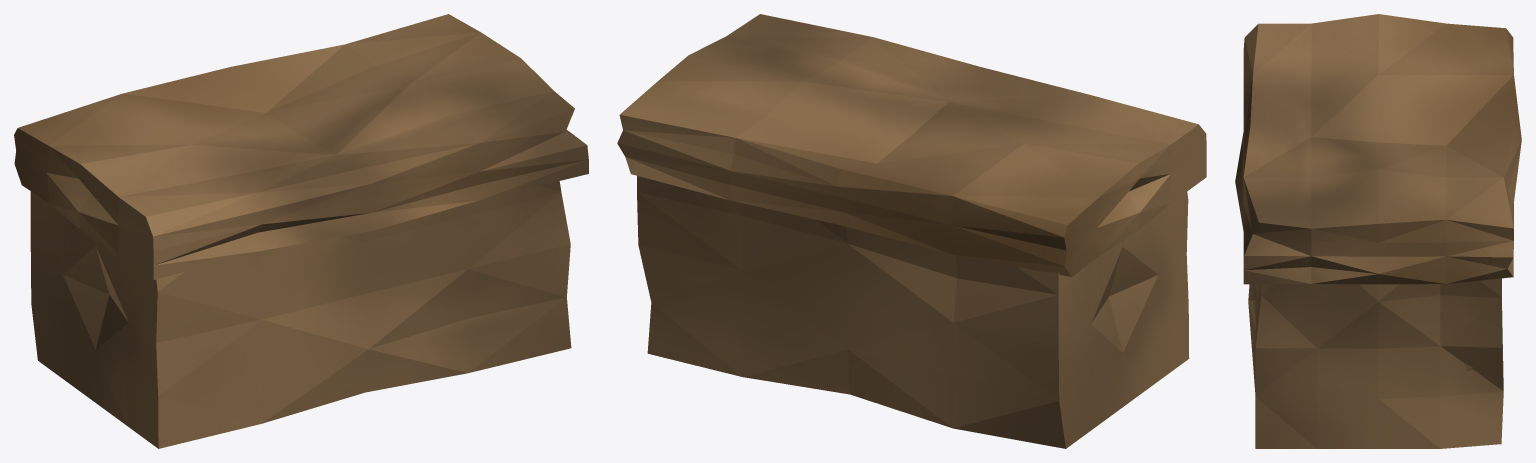
The picture shows the model from 3 angles, left to right: view 1: azimuth 30°, elevation 25°; view 2: azimuth 150°, elevation 25°; view 3: azimuth 270°, elevation 25°; orthographic projection. The views are drawn at different scales.
Parts seen in each view (by area): view 1: box_lid, box_base; view 2: box_lid, box_base; view 3: box_lid, box_base.
Part boxes in pixels (x1,y1,x2,y2): box_lid: (14,14,588,279); box_base: (30,181,571,448); box_lid: (617,14,1206,276); box_base: (637,176,1189,448); box_lid: (1235,14,1521,284); box_base: (1248,278,1503,448).
Size of the model in its own units: 11.41 by 5.88 by 6.55.
Materials: 2 (2 with a texture image).
